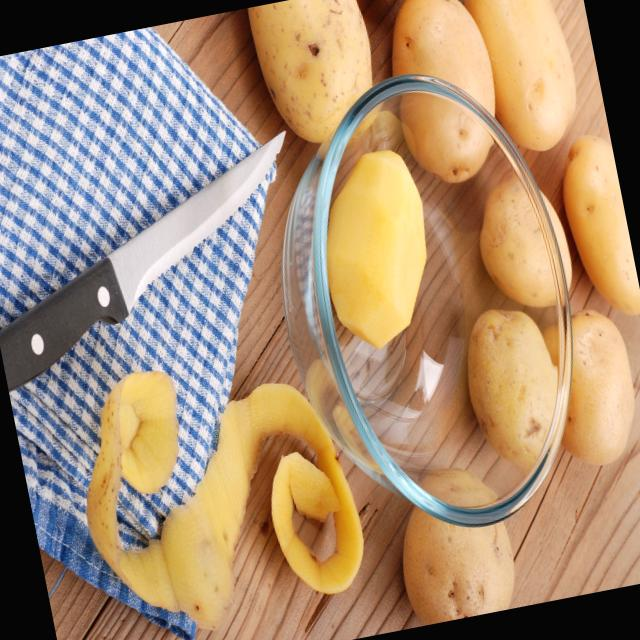potato: (377, 0, 507, 198), (452, 298, 578, 486), (243, 0, 391, 160), (380, 470, 520, 630), (465, 0, 591, 162), (551, 127, 640, 334), (547, 307, 640, 479), (472, 164, 578, 310)
